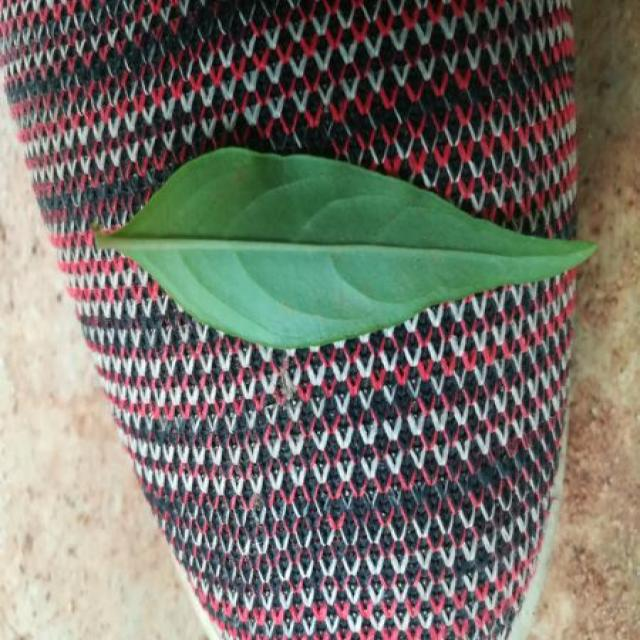Nelavembu: (98, 148, 595, 348)
